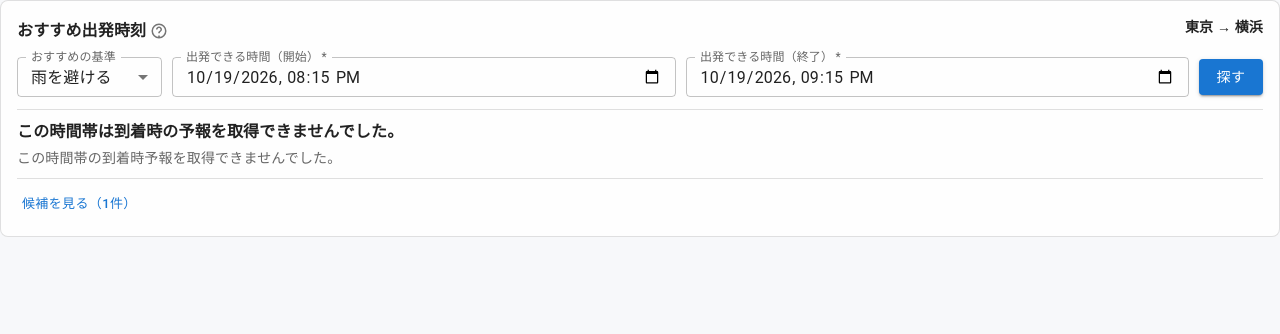
Test case: BestDeparturePlanner › shows an informational result when no arrival forecast is available
Expected: the text "この時間帯の到着時予報を取得できませんでした。" is shown, [17,150,341,166]
Click the button "候補を見る（1件）" at (79, 204), box [17,189,142,220]
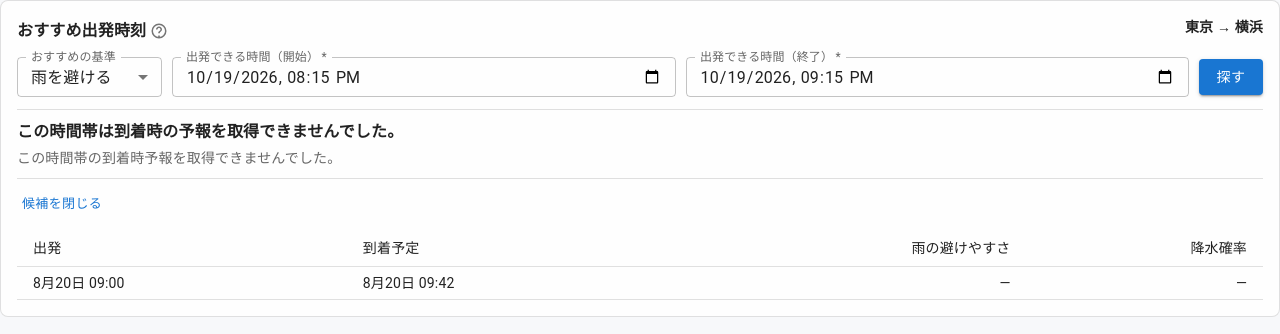
Result: the table named "出発時刻候補" is shown at [17,230,1263,300]
